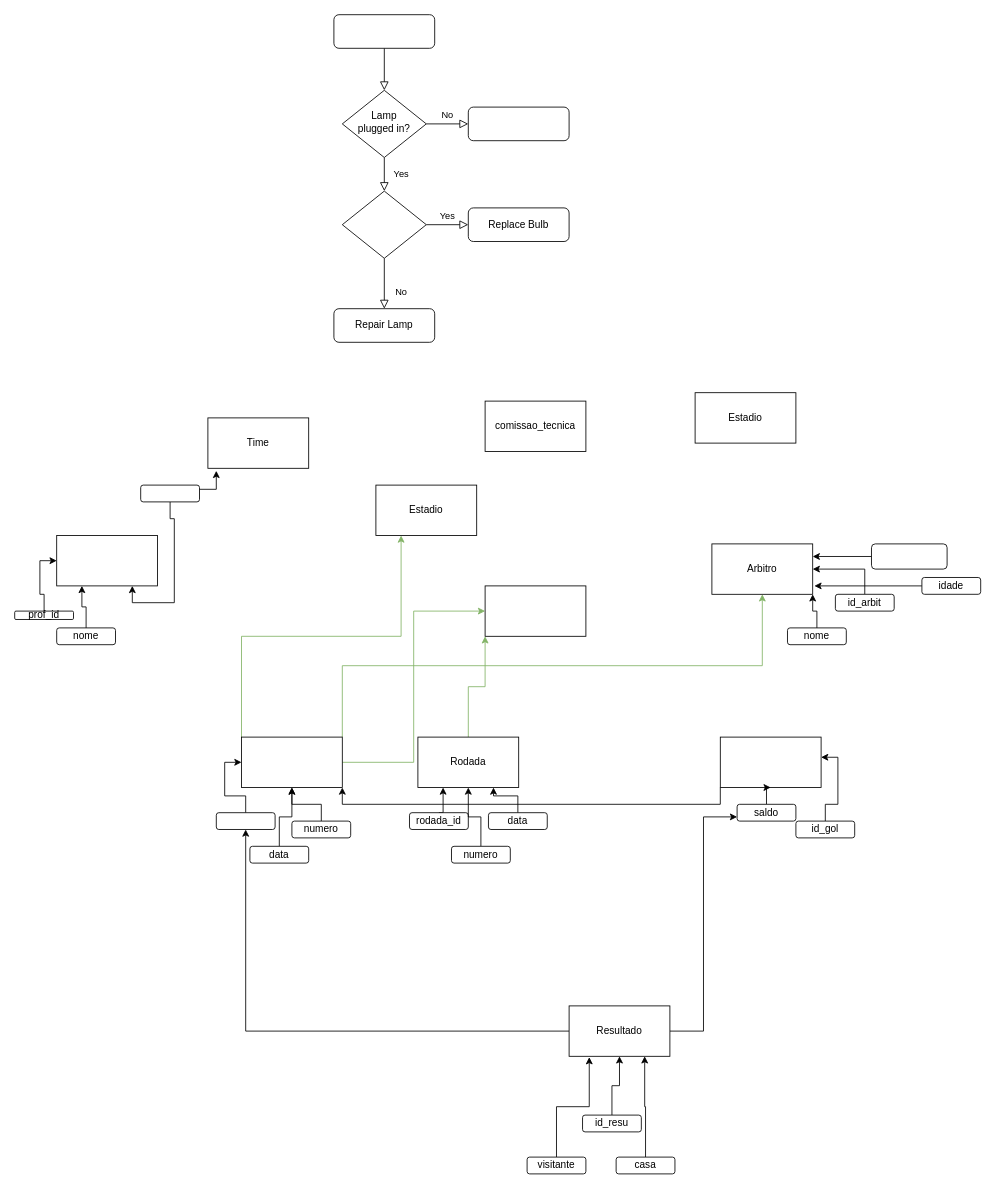
Some shapes in this 995 by 1189 pixel diagram are drawn without their labels. Each missing label, with the box of its shape:
Bulb burned out?: (341, 190, 426, 258)
Campeonato: (484, 585, 586, 636)
gols: (719, 736, 821, 788)
Lamp doesn't work: (333, 14, 435, 48)
nacionalidade: (871, 543, 947, 569)
Partida: (241, 736, 342, 788)
partida_id: (215, 812, 275, 830)
Plug in lamp: (467, 106, 569, 141)
Profissional: (56, 535, 158, 586)
time_id: (140, 484, 200, 502)
